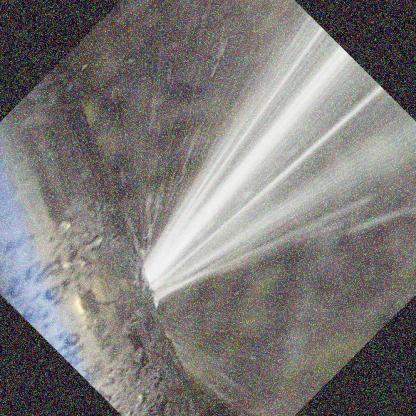burst: (115, 215, 186, 335)
